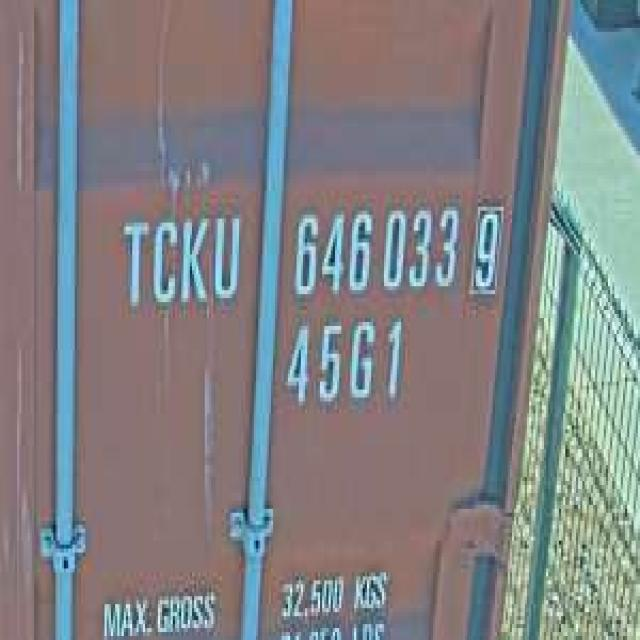dv: (466, 195, 507, 302)
owner: (116, 199, 246, 322)
serial: (282, 191, 458, 302)
size: (280, 310, 408, 417)
